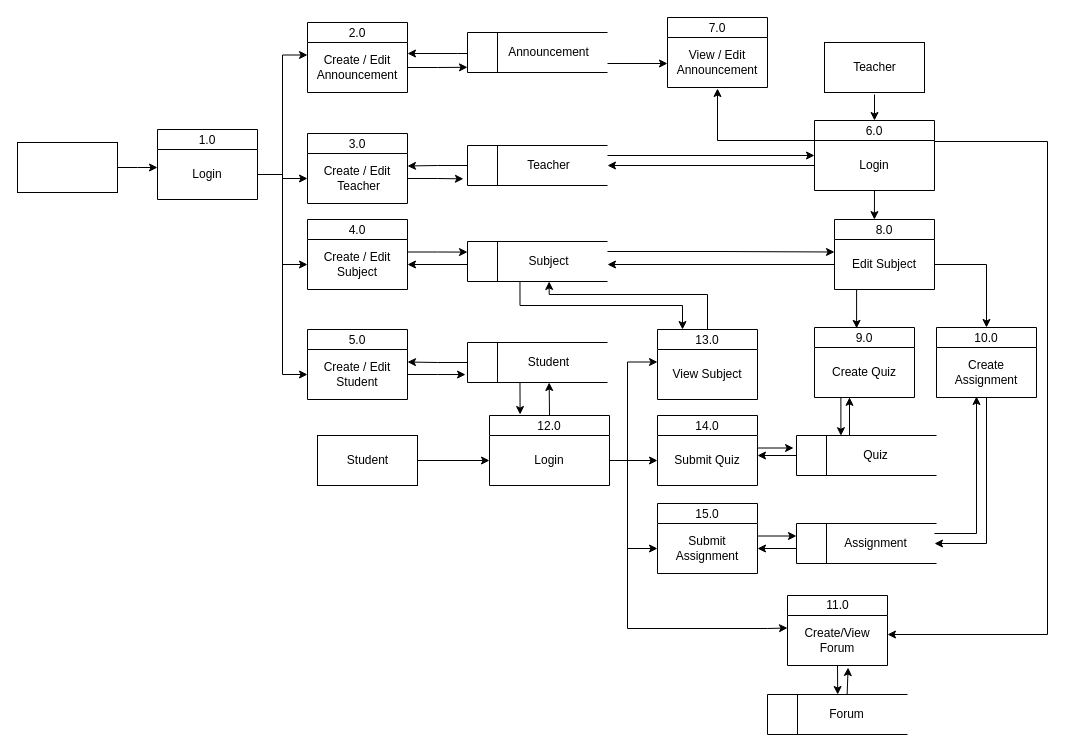
This 1073x752 diagram has some shape labels left out. The box of each missing label's shape, as (x1, y1, x2, y2) in pixels:
Admin: (16, 142, 118, 192)
D1: (466, 32, 608, 72)
D2: (466, 144, 608, 186)
D3: (466, 240, 608, 282)
D4: (466, 342, 608, 382)
D5: (796, 434, 936, 476)
D6: (796, 522, 936, 564)
D7: (766, 694, 908, 734)
